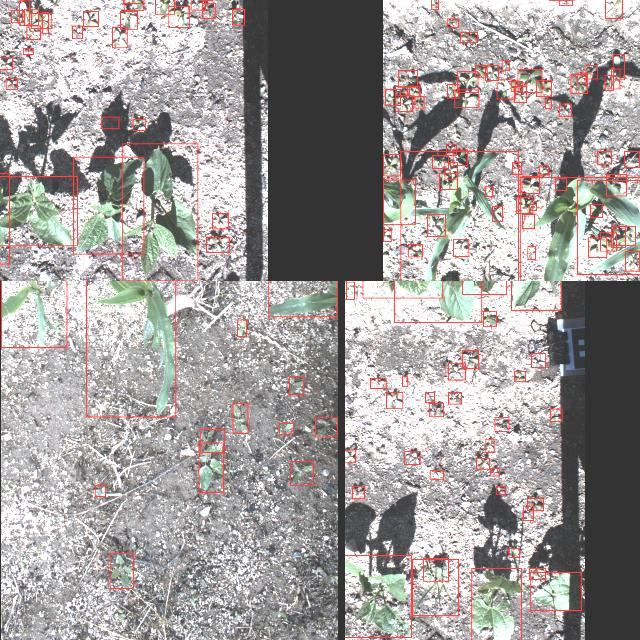crop: (400, 150, 518, 281), (519, 176, 640, 281), (85, 281, 175, 416), (121, 144, 197, 280), (73, 156, 144, 254), (576, 180, 640, 274), (345, 555, 411, 637), (0, 176, 77, 245), (0, 281, 66, 347), (471, 567, 521, 640), (393, 281, 481, 321), (268, 281, 337, 316), (530, 572, 582, 610), (382, 179, 414, 223), (511, 281, 561, 309), (362, 281, 442, 297), (422, 558, 448, 580), (462, 281, 506, 294)
weed: (412, 559, 458, 615), (198, 442, 224, 492), (109, 552, 133, 588), (517, 68, 541, 92), (200, 428, 224, 452), (290, 460, 314, 484), (232, 403, 248, 433), (168, 6, 190, 27), (606, 173, 626, 195), (457, 70, 477, 92), (315, 418, 337, 437), (426, 214, 444, 236), (613, 226, 635, 244), (382, 153, 400, 175), (206, 236, 230, 252), (454, 90, 478, 106), (588, 237, 606, 257), (30, 12, 51, 28), (119, 10, 137, 28), (496, 80, 514, 98), (447, 362, 465, 380), (438, 173, 458, 189), (397, 70, 417, 86), (521, 175, 539, 192), (462, 349, 478, 368), (611, 226, 625, 247), (604, 0, 621, 17), (452, 238, 468, 256), (600, 232, 616, 250), (570, 74, 586, 92), (612, 54, 624, 78), (288, 376, 304, 394), (112, 27, 126, 47), (625, 250, 639, 270), (212, 212, 228, 228), (82, 10, 98, 26), (516, 197, 532, 213), (384, 89, 400, 105), (386, 391, 402, 407), (394, 96, 412, 110), (154, 0, 173, 13), (19, 0, 29, 24), (23, 8, 37, 24), (452, 149, 466, 165), (432, 154, 448, 168), (484, 64, 498, 80), (536, 80, 550, 96), (624, 151, 638, 167), (428, 402, 444, 416), (530, 353, 546, 367), (482, 310, 496, 326), (100, 116, 118, 128), (404, 451, 420, 464), (610, 68, 620, 88), (26, 25, 40, 39), (494, 417, 508, 431), (232, 8, 244, 24), (202, 2, 214, 18), (406, 244, 422, 256), (444, 162, 456, 178), (514, 85, 526, 101), (527, 497, 543, 509), (124, 0, 143, 10), (597, 150, 611, 163), (459, 32, 476, 42), (132, 118, 146, 130), (590, 203, 602, 217), (446, 83, 458, 97), (558, 104, 572, 116), (585, 64, 597, 78), (522, 214, 534, 228), (604, 74, 614, 90), (529, 568, 545, 578), (369, 378, 385, 388), (279, 422, 293, 433), (10, 10, 22, 22), (554, 177, 566, 189), (474, 64, 486, 76), (238, 318, 246, 336), (448, 391, 460, 403), (352, 486, 364, 498), (550, 408, 562, 420), (492, 206, 502, 220), (523, 506, 533, 520), (345, 281, 353, 298), (190, 0, 205, 9), (0, 57, 11, 69), (41, 11, 47, 33), (94, 484, 105, 496), (514, 371, 526, 382), (345, 449, 355, 462), (429, 469, 443, 478), (72, 26, 82, 38), (382, 229, 392, 241), (445, 143, 455, 155), (476, 458, 488, 468), (485, 438, 493, 452), (6, 78, 16, 89), (511, 81, 522, 91), (413, 95, 422, 107), (408, 85, 418, 95), (576, 72, 586, 82), (509, 547, 519, 557), (424, 392, 434, 402), (447, 18, 458, 27), (527, 246, 535, 258), (512, 162, 520, 174), (394, 86, 406, 94), (538, 166, 548, 174), (484, 186, 492, 196), (501, 60, 509, 70), (496, 486, 506, 494), (489, 468, 498, 476), (430, 0, 437, 9), (123, 0, 143, 3), (23, 48, 33, 54), (558, 0, 572, 4), (545, 99, 551, 108), (528, 204, 536, 210), (402, 376, 406, 386)
